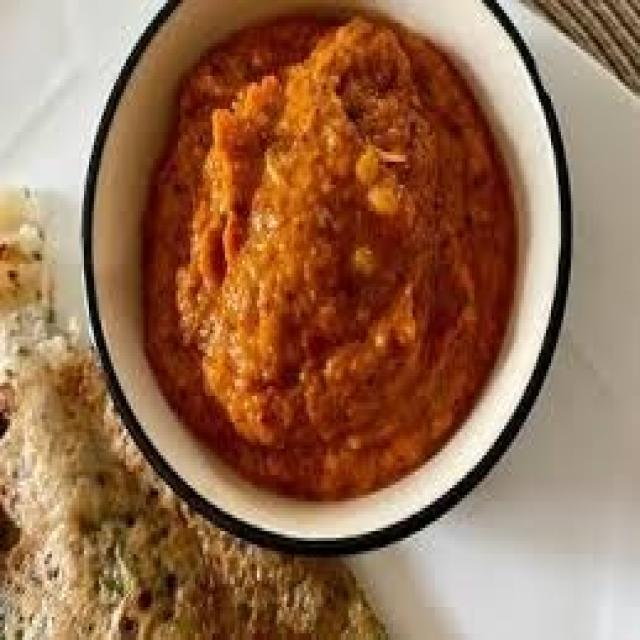kaara chutney: (113, 11, 518, 497)
